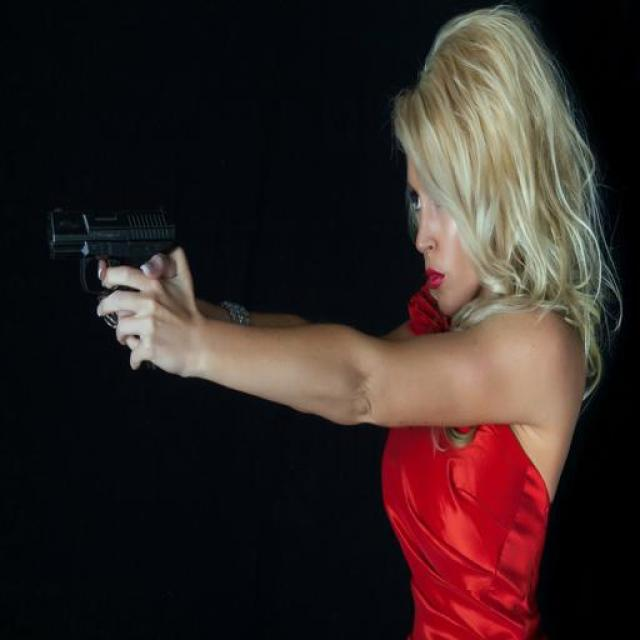pistol: (45, 200, 185, 371)
